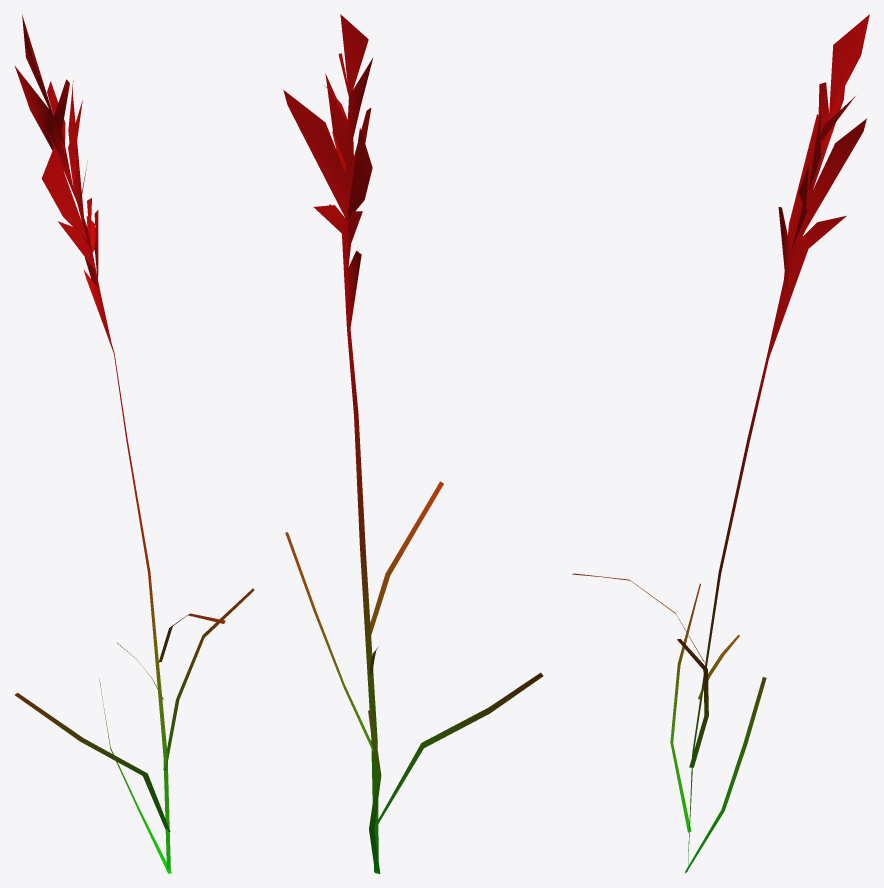
File: Tundra Grass_LOD4_Var20_wk2oaeyqx.fbx
3 renders of one model, left to right at view 1: azimuth 30°, elevation 25°; view 2: azimuth 150°, elevation 25°; view 3: azimuth 270°, elevation 25°, orthographic. The views are drawn at different scales.
Parts seen in each view (by area): view 1: _d0lh_Var20_LOD4; view 2: _d0lh_Var20_LOD4; view 3: _d0lh_Var20_LOD4.
Boxes of the visible parts, <box> form: _d0lh_Var20_LOD4: <box>15,14,254,873</box>; _d0lh_Var20_LOD4: <box>283,14,543,873</box>; _d0lh_Var20_LOD4: <box>572,14,869,873</box>.
Size of the model in its own units: 15.71 by 53.02 by 17.25.
